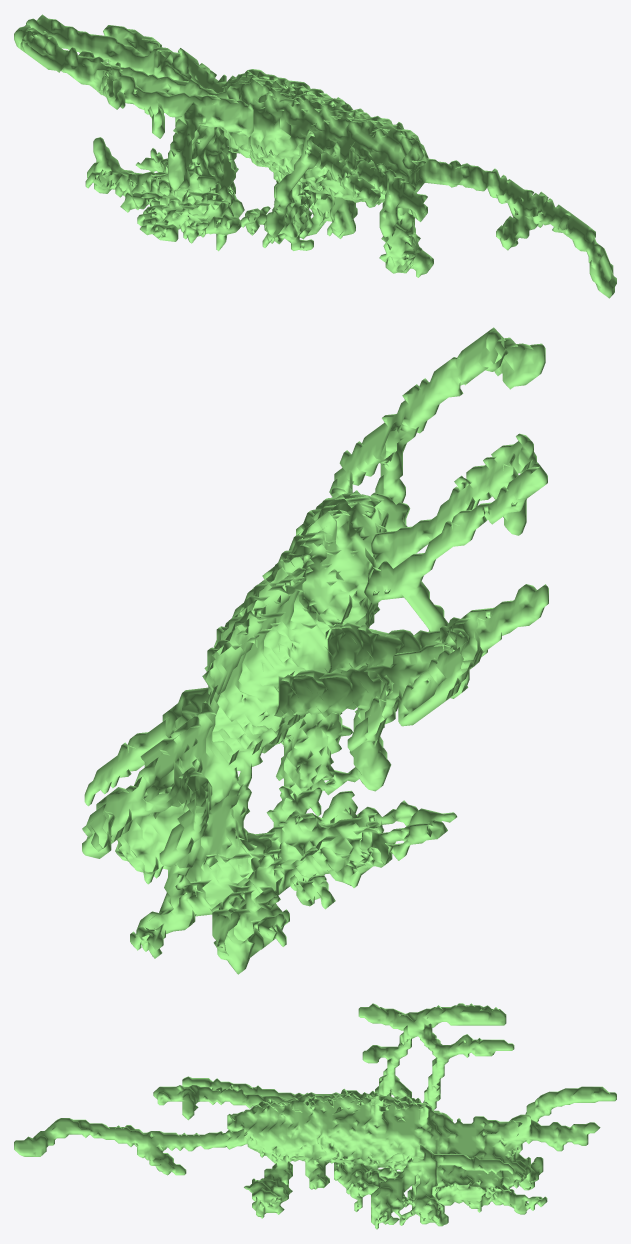
Rendered from osteocyte_73.glb.
3 views of the same model, one above another, from view 1: azimuth 30°, elevation 25°; view 2: azimuth 150°, elevation 25°; view 3: azimuth 270°, elevation 25° (orthographic). The views are drawn at different scales.
Parts seen in each view (by area): view 1: osteocyte_73; view 2: osteocyte_73; view 3: osteocyte_73.
Part boxes in pixels (x1,y1,x2,y2): osteocyte_73: (14, 14, 616, 298); osteocyte_73: (82, 327, 548, 974); osteocyte_73: (14, 1003, 616, 1229).
Bounding box in the file's own units: 26.96 × 20.22 × 70.78.
